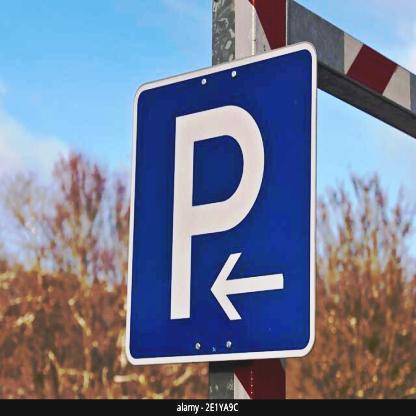Parking: (127, 74, 324, 357)
